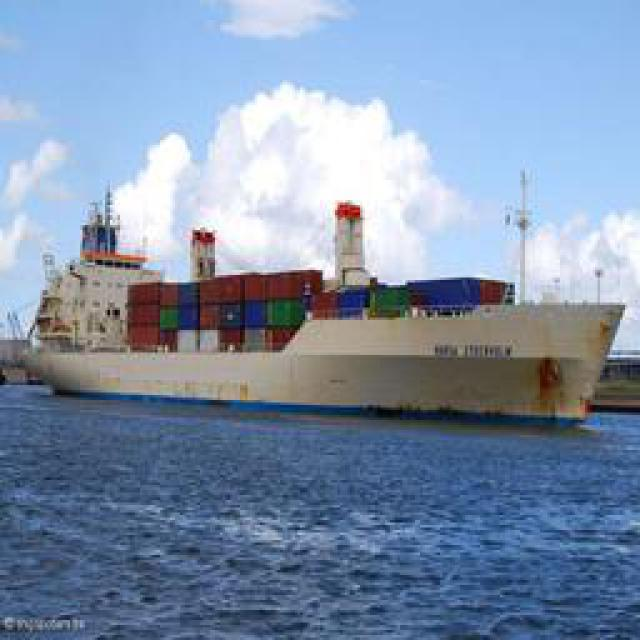Ship: (20, 284, 628, 429)
